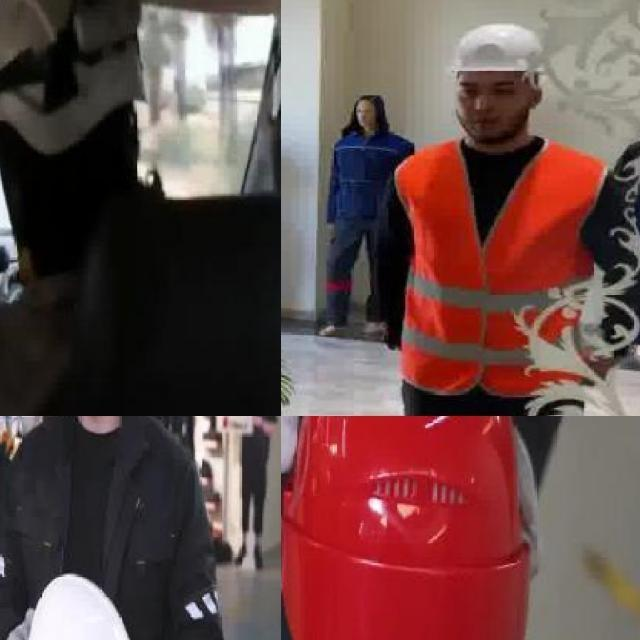apron: (505, 416, 546, 590), (0, 603, 39, 640)
